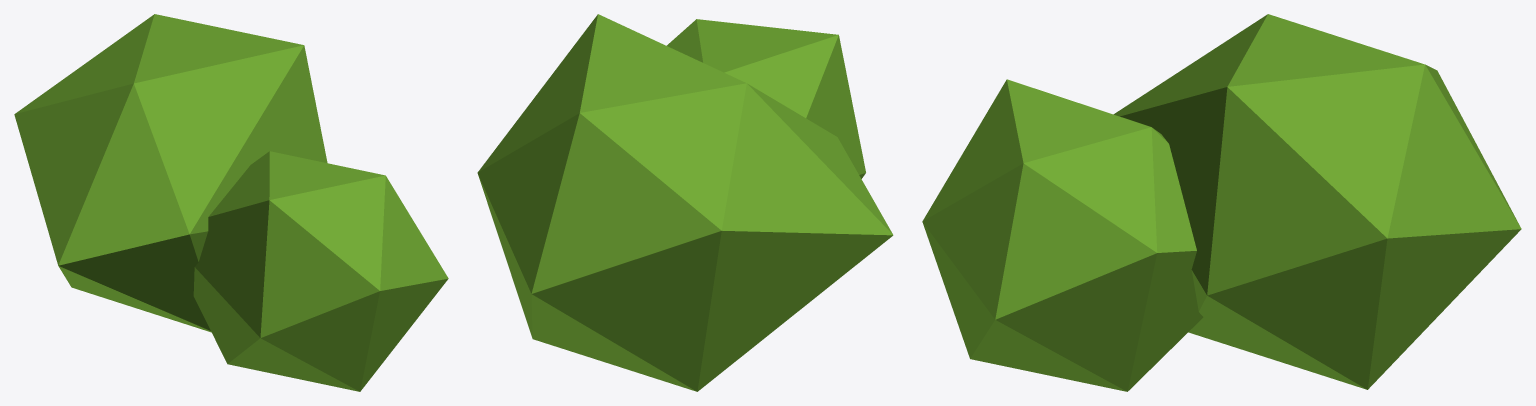
The model's file is Bush3.fbx.
3 views of the same model, side by side, from view 1: azimuth 30°, elevation 25°; view 2: azimuth 150°, elevation 25°; view 3: azimuth 270°, elevation 25° (orthographic). The views are drawn at different scales.
Visible parts, largest first — view 1: Cube.001; view 2: Cube.001; view 3: Cube.001.
Boxes of the visible parts, x1,y1,x2,y2 form: Cube.001: [14, 14, 448, 391]; Cube.001: [477, 14, 893, 391]; Cube.001: [922, 14, 1521, 391].
Size of the model in its own units: 135 by 107 by 193.
